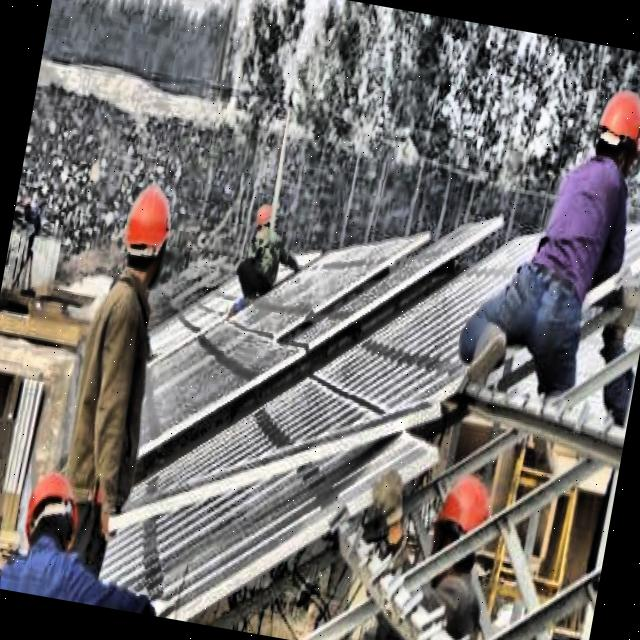helmet: (111, 175, 181, 302), (15, 464, 84, 566), (587, 82, 640, 179), (430, 474, 490, 552), (254, 202, 276, 238)
